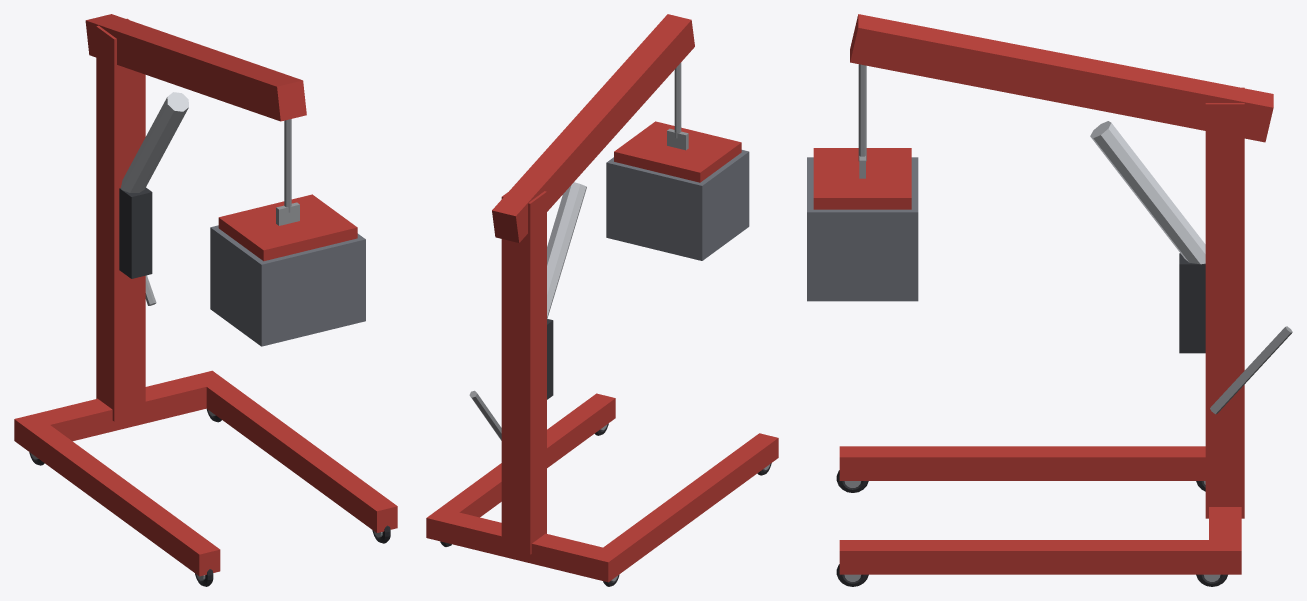
The model's file is engine_hoist.glb.
3 renders of one model, left to right at view 1: azimuth 30°, elevation 25°; view 2: azimuth 150°, elevation 25°; view 3: azimuth 270°, elevation 25°, orthographic. The views are drawn at different scales.
Parts seen in each view (by area): view 1: engine_hoist; view 2: engine_hoist; view 3: engine_hoist.
Boxes of the visible parts, x1,y1,x2,y2 form: engine_hoist: (14,14,397,586); engine_hoist: (426,14,778,586); engine_hoist: (807,14,1292,586).
Bounding box in the file's own units: 0.76 × 1.75 × 1.49.
